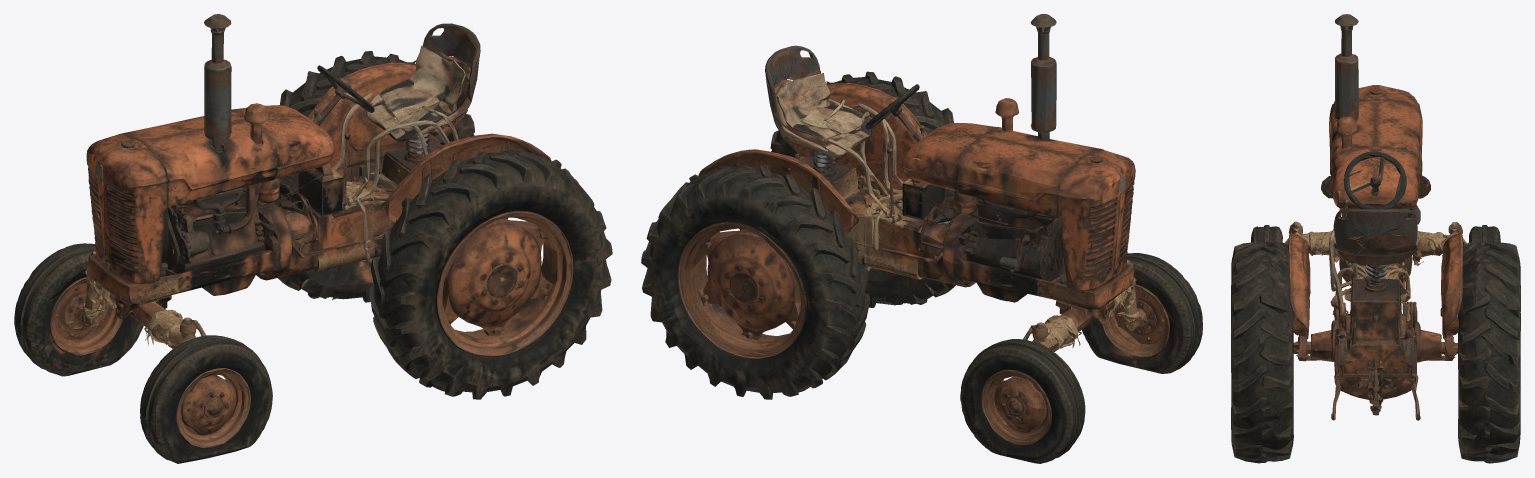
The model's file is tractor_meshy_source.glb.
3 views of the same model, side by side, from view 1: azimuth 30°, elevation 25°; view 2: azimuth 150°, elevation 25°; view 3: azimuth 270°, elevation 25° (orthographic). The views are drawn at different scales.
Bounding box in the file's own units: 1.9 × 1.49 × 1.15.
Materials: 1 (1 with a texture image).
